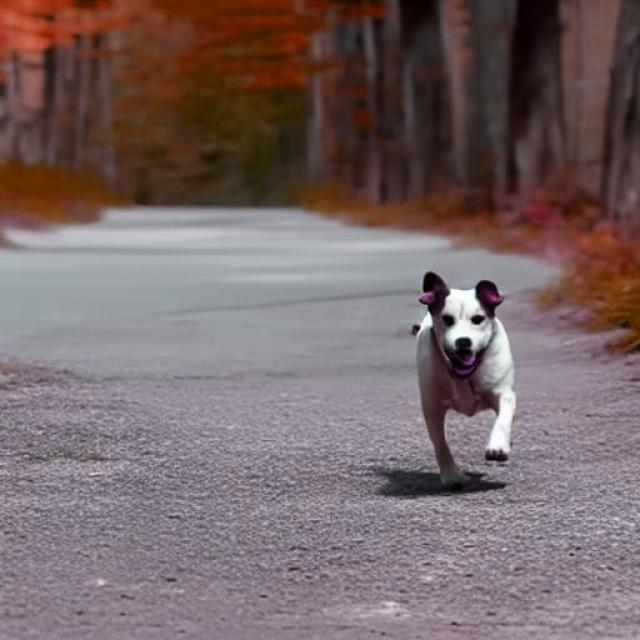Dog: (411, 271, 517, 486)
